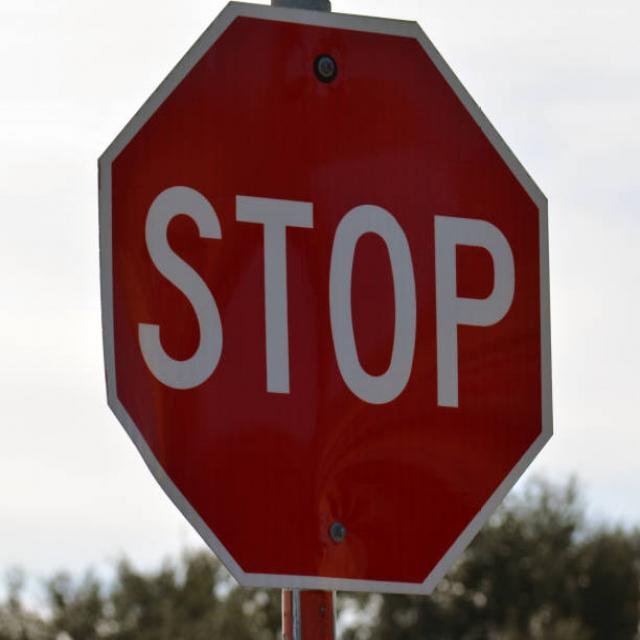stop: (93, 0, 559, 601)
